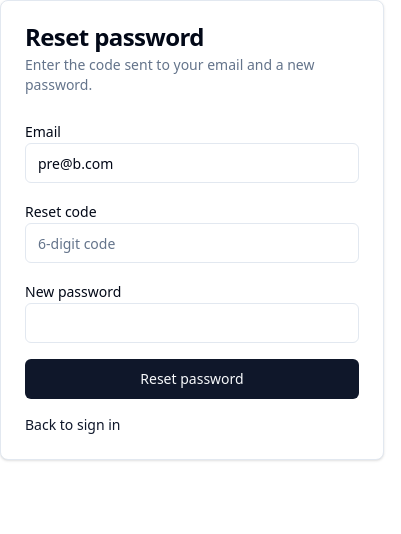
auth-ui › Reset-password screen › shows the attempts-exhausted message with a link back to forgot-password
This screenshot has width=401, height=534.
Type "999999" into the field labelled "Reset code" at (192, 243), box [25, 223, 359, 263]
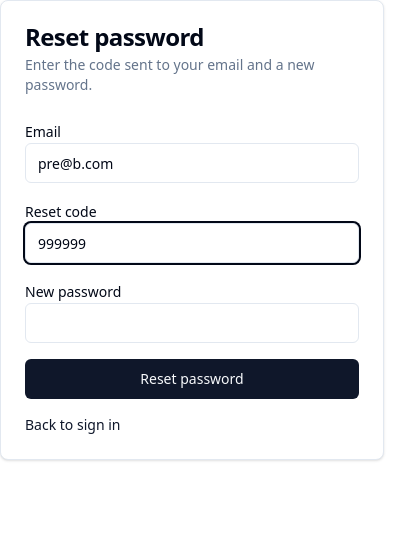
Type "Passw0rd" into the password field labelled "New password" at (192, 323), box [25, 303, 359, 343]
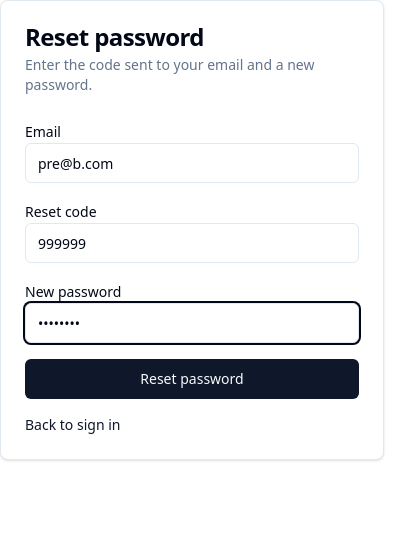
Click the button "Reset password" at (192, 379), box [25, 359, 359, 399]
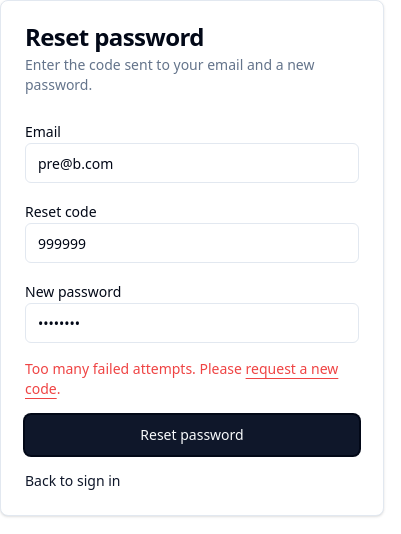
Expected: the text "Too many failed attempts. Please request a new code ." is shown, [25, 359, 359, 399]
